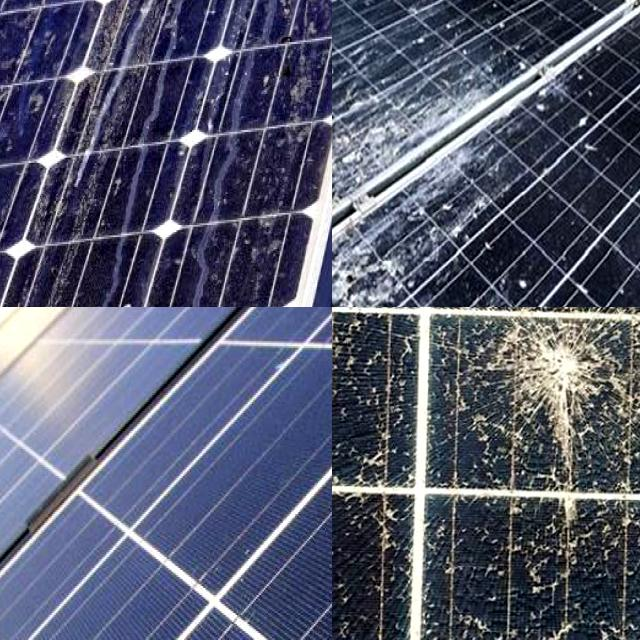bird: (332, 151, 386, 244), (332, 254, 426, 307), (341, 104, 444, 148), (332, 48, 365, 157), (504, 264, 562, 307), (0, 0, 89, 24), (178, 0, 229, 35), (284, 28, 305, 101), (0, 0, 29, 50), (561, 99, 590, 147), (332, 0, 368, 33), (0, 0, 29, 36), (332, 142, 354, 181), (459, 0, 503, 19), (305, 0, 332, 30), (0, 0, 17, 20)
crack: (0, 307, 332, 640)
hotspot: (450, 307, 640, 443), (467, 507, 640, 640)
